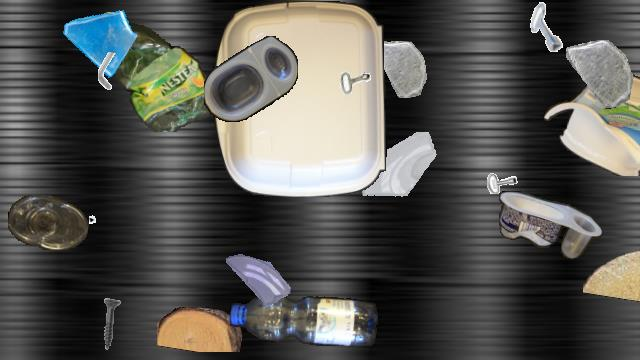glass: (360, 132, 442, 214), (59, 1, 137, 79), (566, 40, 634, 108), (226, 248, 290, 312), (372, 41, 428, 97)
metal: (321, 41, 381, 101), (82, 297, 138, 353), (522, 1, 574, 53), (477, 149, 521, 193), (88, 52, 128, 92), (89, 206, 127, 244)
plastic: (214, 1, 386, 197), (84, 12, 214, 132), (544, 70, 640, 176), (204, 36, 298, 122), (230, 292, 378, 346), (499, 191, 601, 259), (8, 195, 88, 249)
wood: (157, 307, 243, 351), (583, 249, 640, 303)
